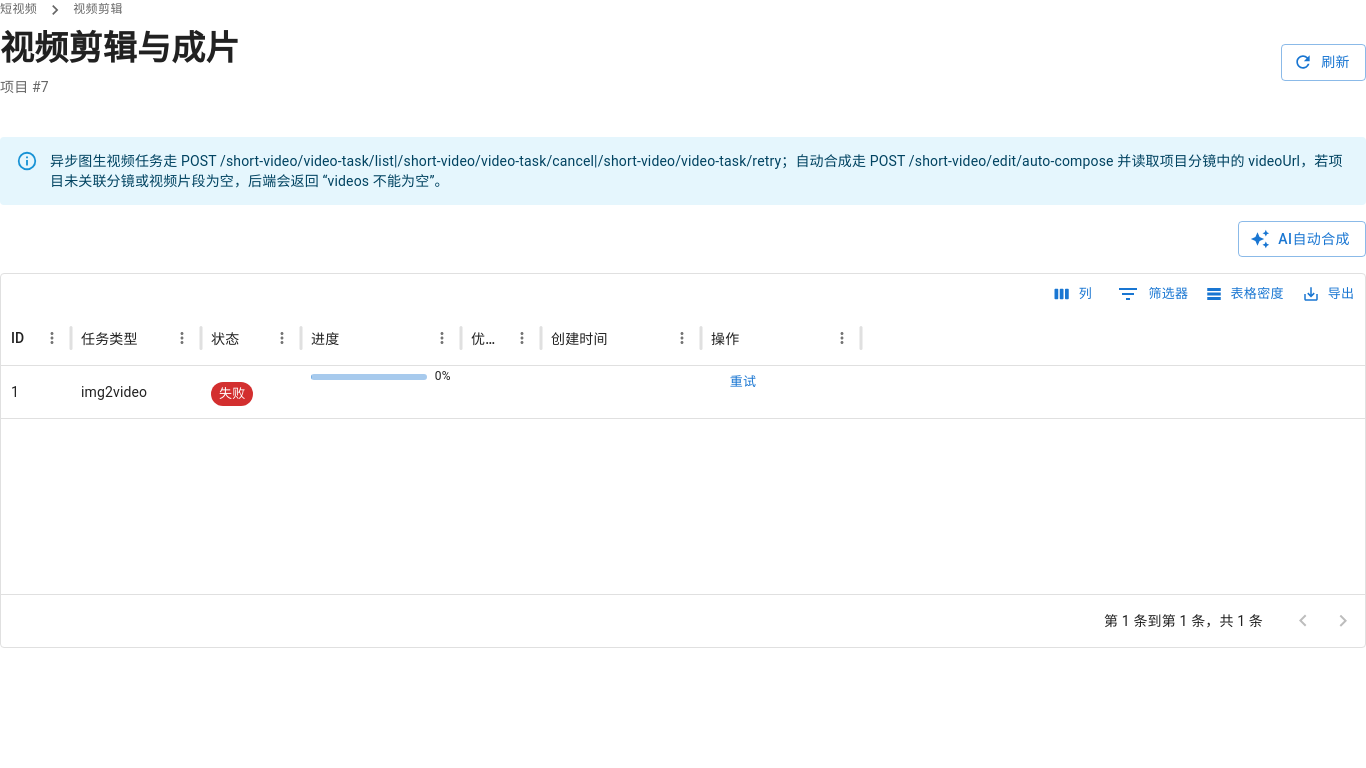
Scenario: VideoEditingPage › starts digital human commerce pipeline and renders workflow status
Check: the text "失败" is shown, box 219,386 -> 245,401
Click the button "AI自动合成" at [1302, 239], box 1238,221 -> 1365,257
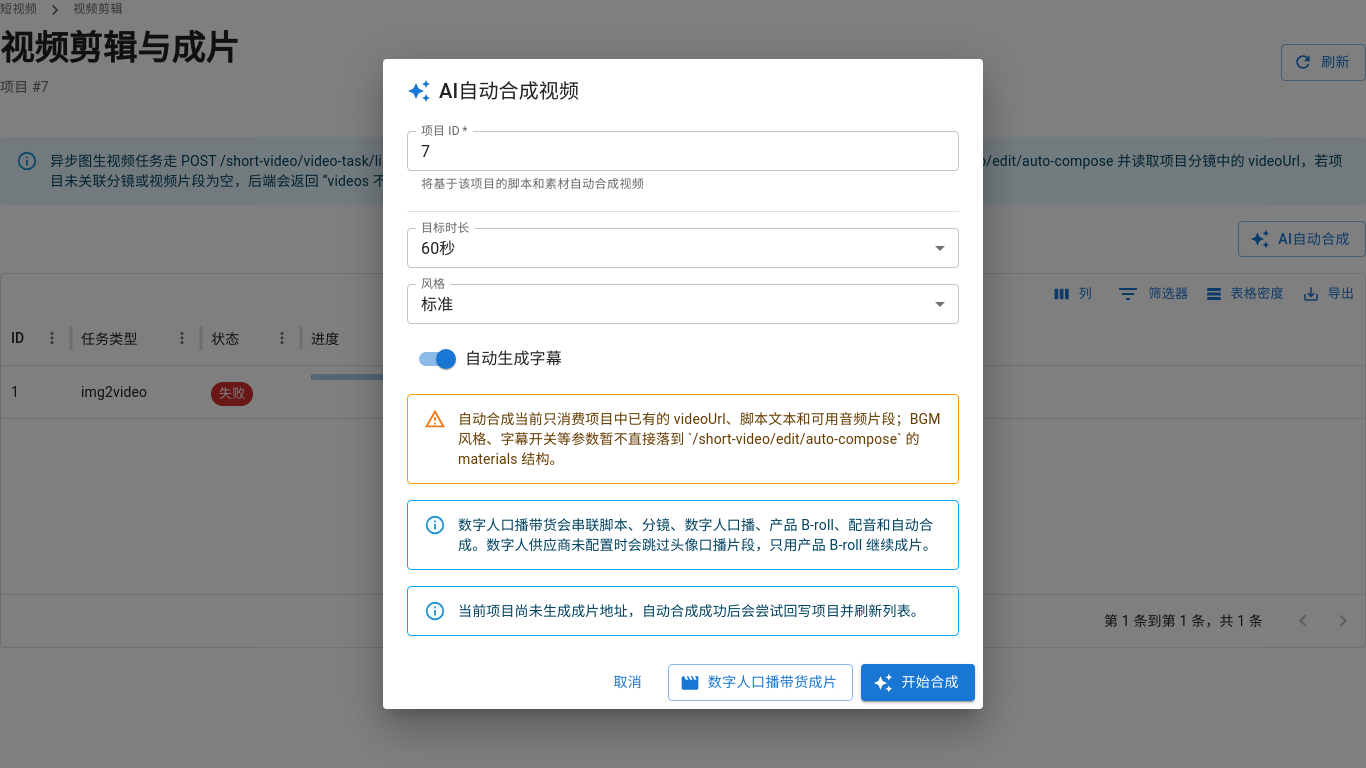
Check: the text "数字人口播带货会串联脚本、分镜、数字人口播、产品 B-roll" is shown, box 458,517 -> 937,553
Click the button "数字人口播带货成片" at [761, 683], box 668,664 -> 853,701
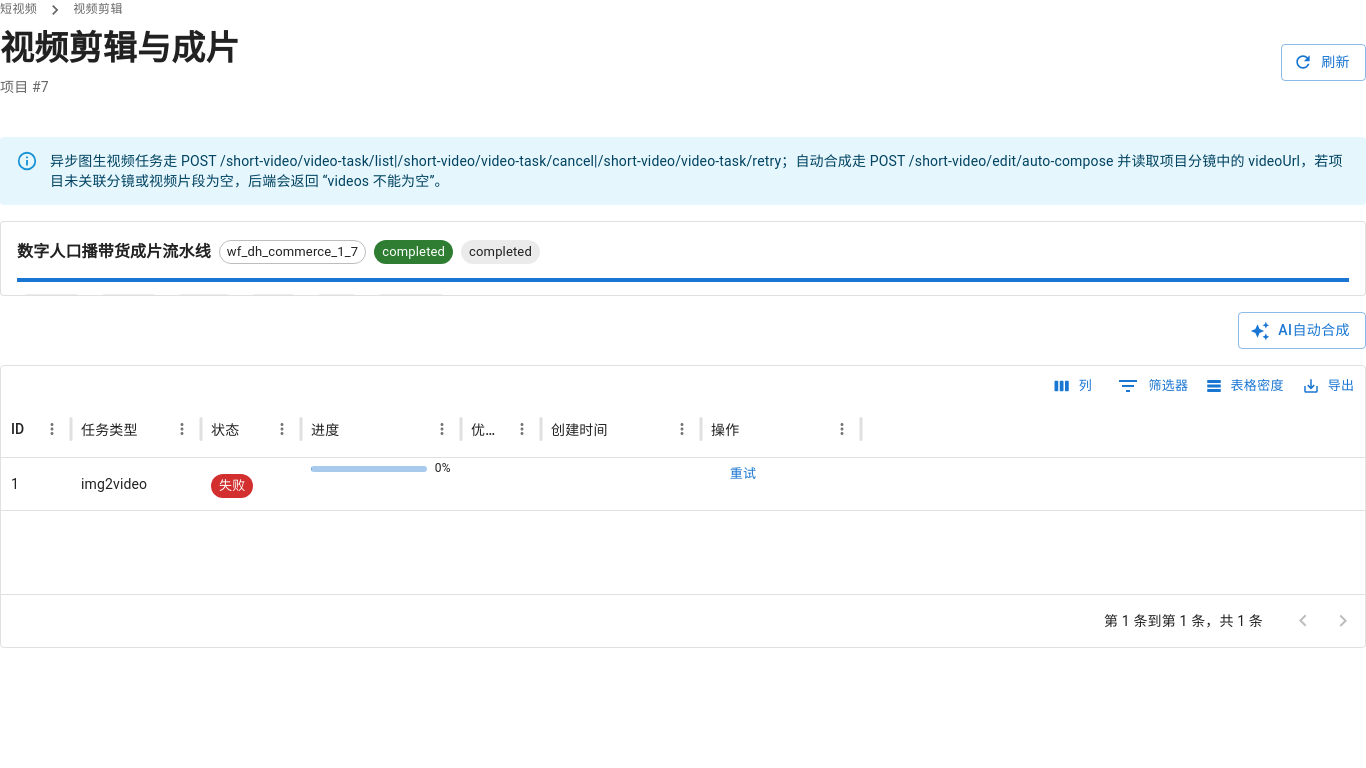
Check: the text "AI自动合成视频" is gone
